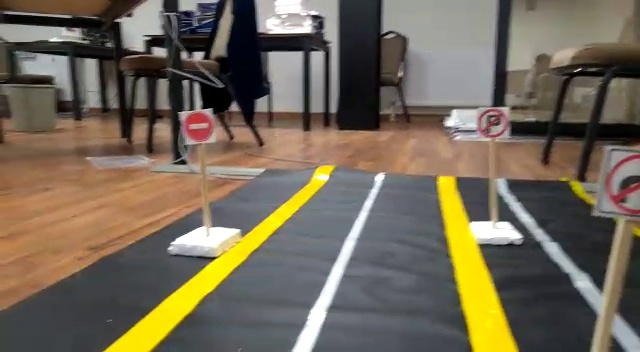girisi_olmayan_yol: (184, 110, 215, 143)
park_yapilmaz: (476, 106, 509, 140)
saga_donulmez: (600, 145, 640, 221)
